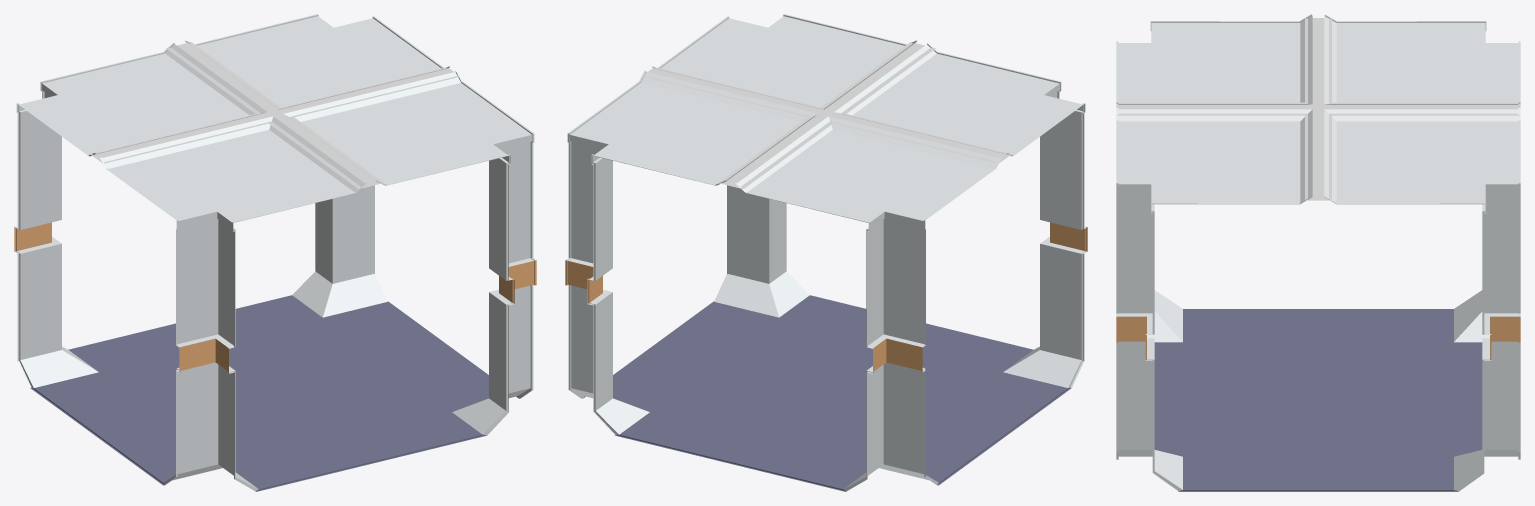
Rendered from A-Gang.fbx.
The picture shows the model from 3 angles, left to right: view 1: azimuth 30°, elevation 25°; view 2: azimuth 150°, elevation 25°; view 3: azimuth 270°, elevation 25°; orthographic projection. The views are drawn at different scales.
Visible parts, largest first — view 1: A-Gang; view 2: A-Gang; view 3: A-Gang.
Boxes of the visible parts, left/top/right/bottom form: A-Gang: left=14, top=14, right=536, bottom=491; A-Gang: left=565, top=14, right=1087, bottom=491; A-Gang: left=1116, top=14, right=1520, bottom=491.
Size of the model in its own units: 2.78 by 2.09 by 2.59.
